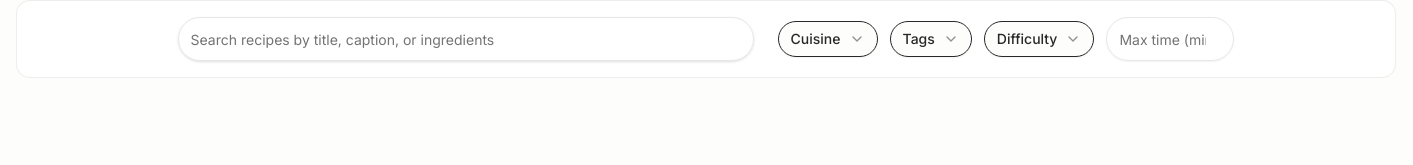
FilterBar › tags filter › should show message when no tags available
The image size is (1413, 165).
Click the button with test id "tags-filter-trigger": x=931, y=39 [890,21,972,57]
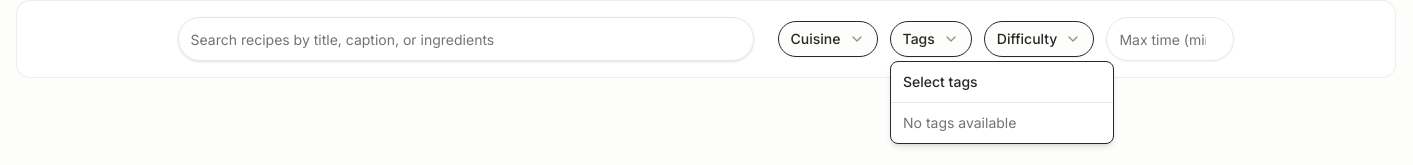
Expected: the text "No tags available" is shown, [903,114,1016,131]
